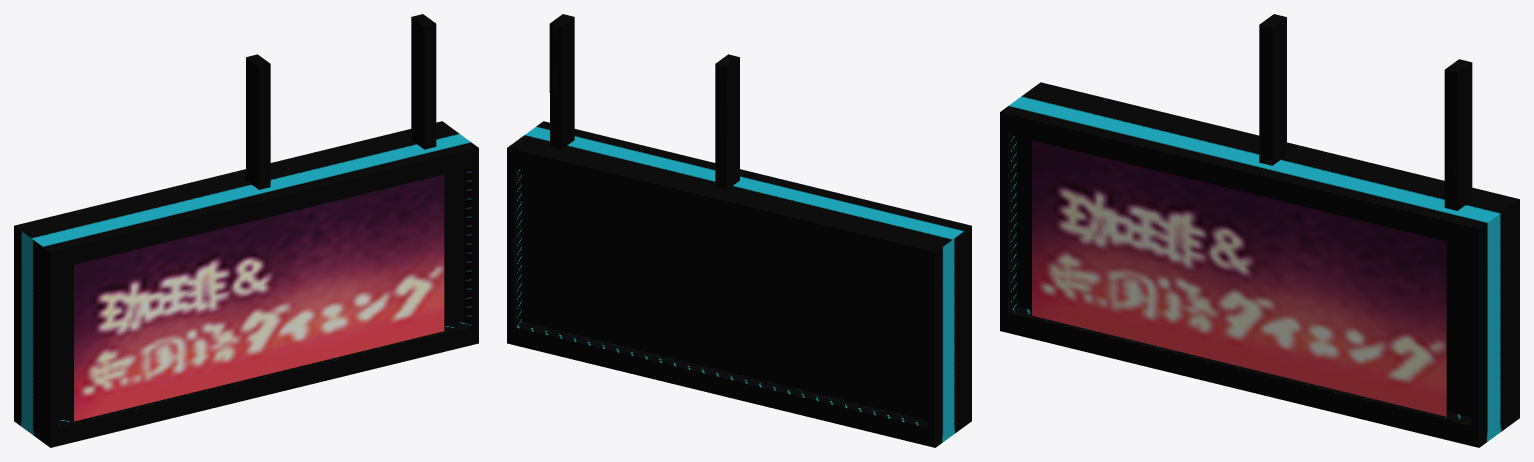
The model's file is Japanese_Sign_05_Art.fbx.
The picture shows the model from 3 angles, left to right: view 1: azimuth 30°, elevation 25°; view 2: azimuth 150°, elevation 25°; view 3: azimuth 330°, elevation 25°; orthographic projection. The views are drawn at different scales.
Parts seen in each view (by area): view 1: Japanese_Sign_05; view 2: Japanese_Sign_05; view 3: Japanese_Sign_05.
Part boxes in pixels (x1,y1,x2,y2): Japanese_Sign_05: [14, 14, 478, 447]; Japanese_Sign_05: [507, 14, 971, 447]; Japanese_Sign_05: [1000, 14, 1519, 447].
Size of the model in its own units: 0.8588 by 0.6112 by 0.1264.
